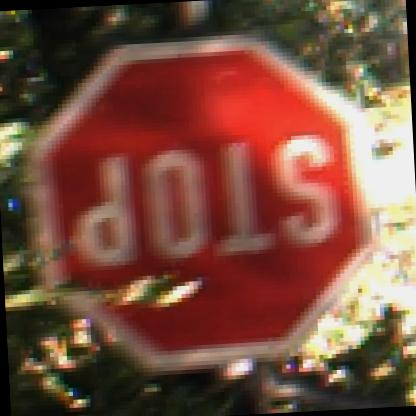stop: (26, 32, 380, 374)
